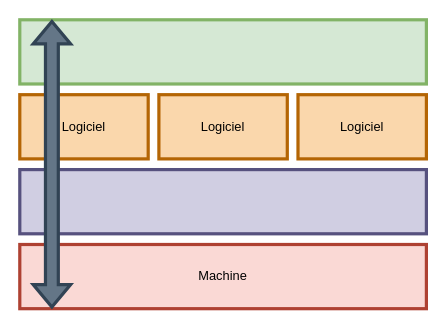
This 446x328 diagram has some shape labels left out. Here are the shapes that lost their labels. From the top down, the centre of each, then its label:
At point (222, 51): "Utilisateur".
At point (222, 201): "OS".
